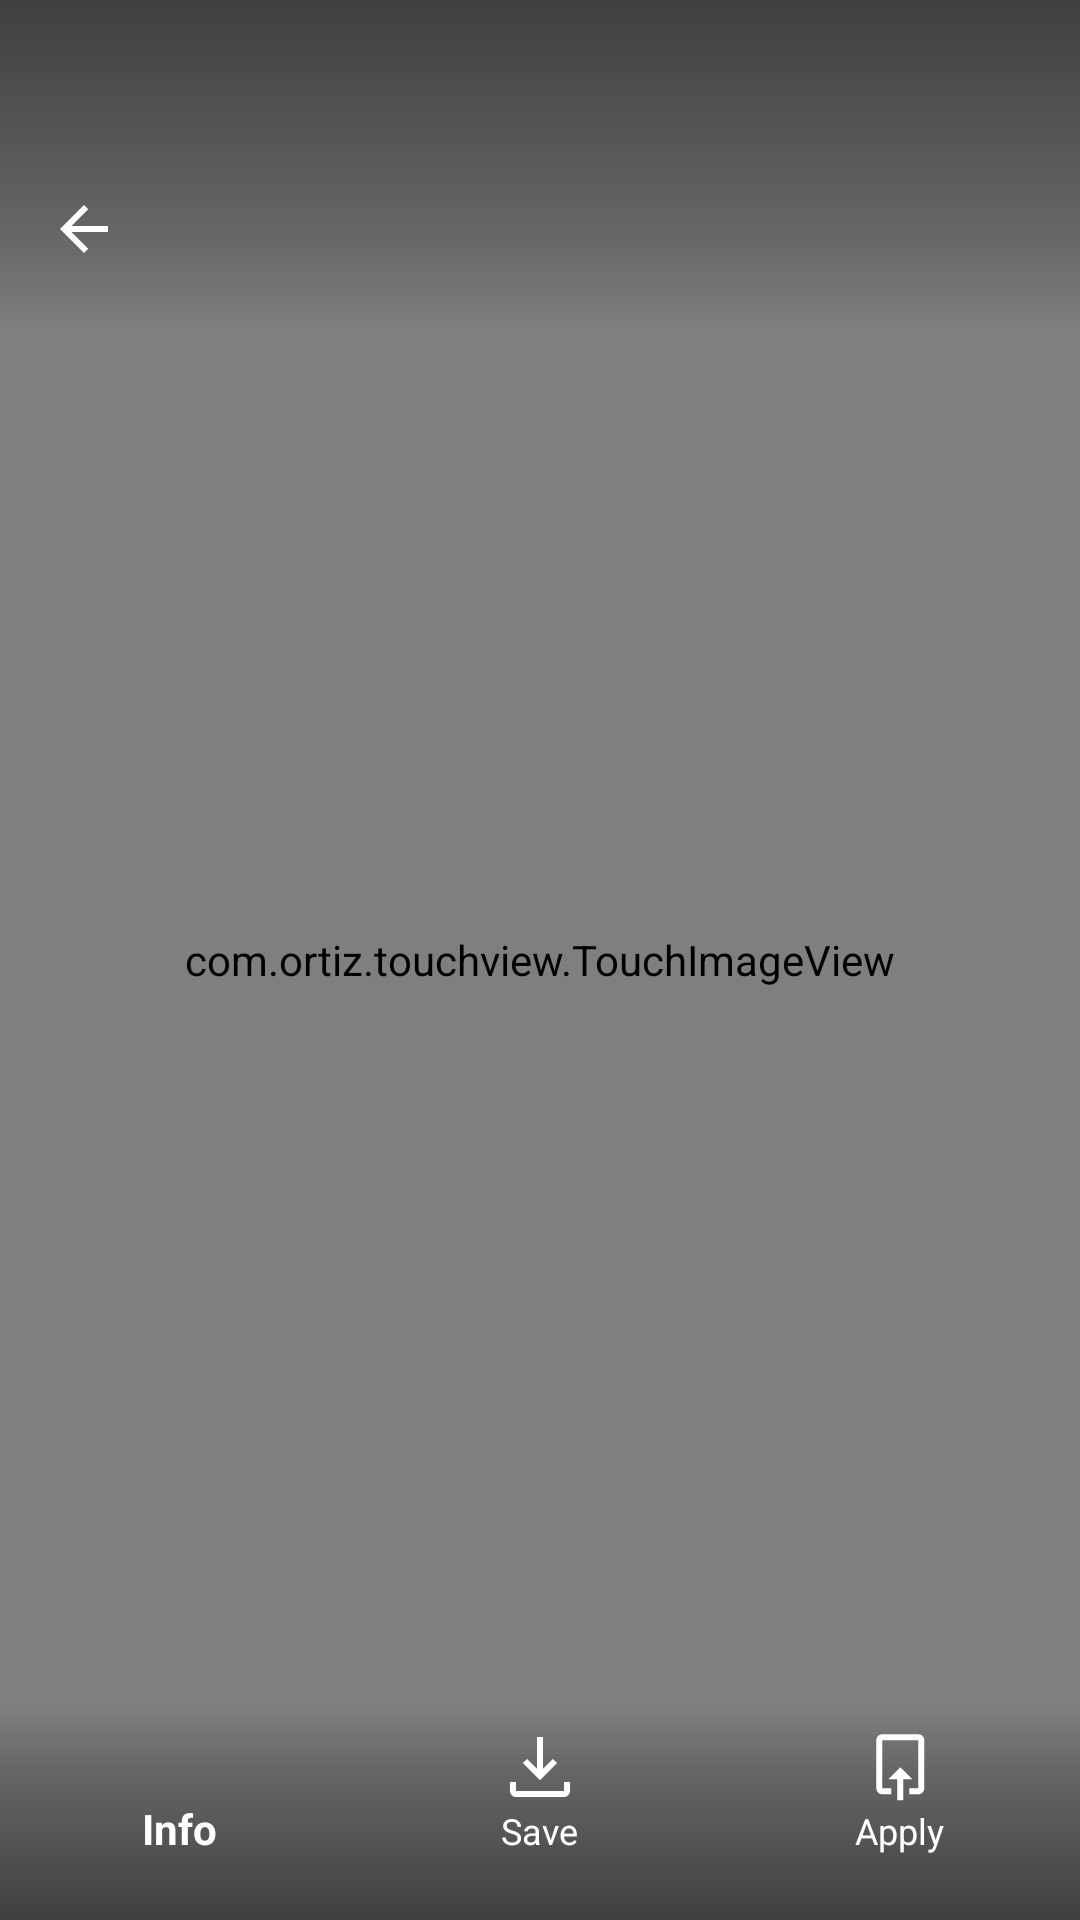

Where icons sit on this 1080×1920 app screen, as (x1, y1, x2, y2):
arrow back: (60, 205, 108, 253)
